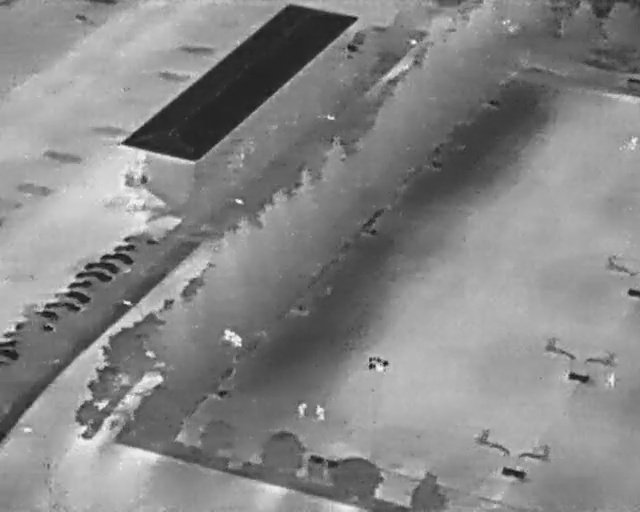Car: (49, 283, 95, 307), (40, 294, 86, 318), (23, 303, 62, 325), (73, 267, 115, 286), (11, 317, 55, 335), (64, 275, 103, 295), (82, 257, 123, 276), (98, 249, 138, 268), (122, 230, 162, 248), (113, 240, 148, 257), (2, 326, 24, 341), (0, 347, 21, 361), (0, 339, 23, 349)
Person: (314, 403, 326, 421), (607, 371, 616, 390), (296, 403, 307, 417)
